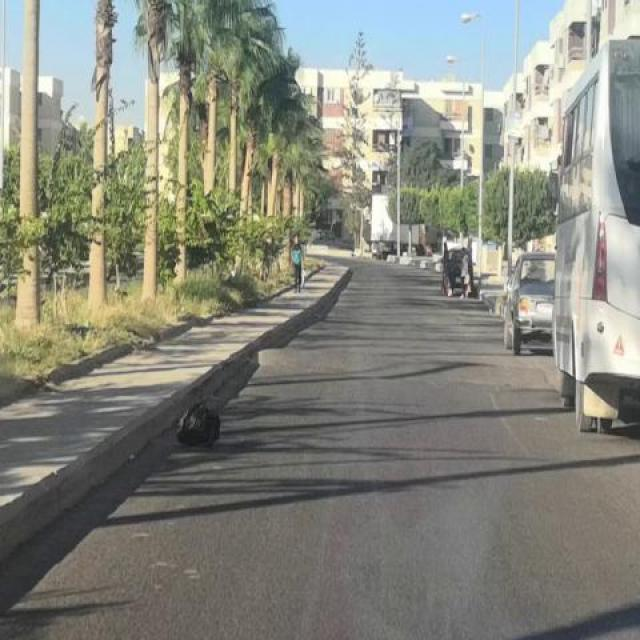Unmarked Bump: (252, 348, 560, 393)
